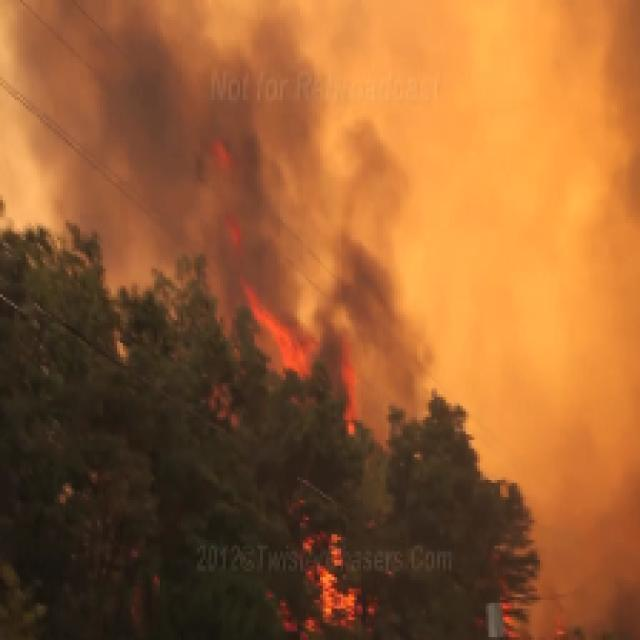Fire: (191, 137, 446, 640)
Smoke: (0, 0, 640, 403)
